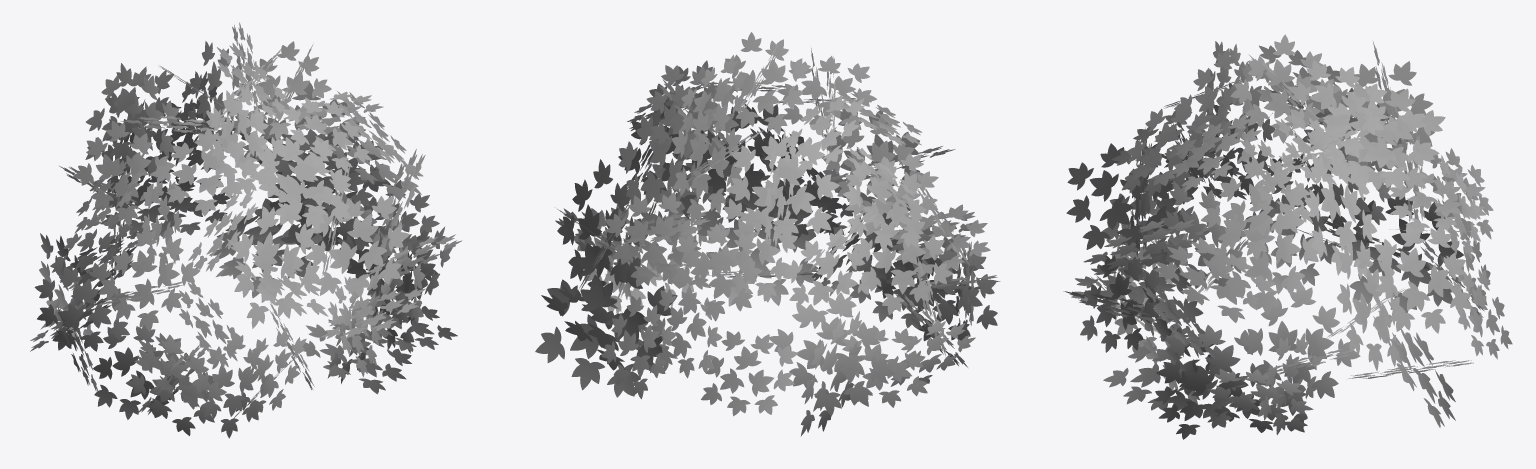
File: b_plant_guanmu_lod1_01.fbx
3 views of the same model, side by side, from view 1: azimuth 30°, elevation 25°; view 2: azimuth 150°, elevation 25°; view 3: azimuth 270°, elevation 25° (orthographic). The views are drawn at different scales.
Visible parts, largest first — view 1: b_plant_guanmu_lod1_01; view 2: b_plant_guanmu_lod1_01; view 3: b_plant_guanmu_lod1_01.
Part boxes in pixels (x1,y1,x2,y2): b_plant_guanmu_lod1_01: (30, 22, 462, 438); b_plant_guanmu_lod1_01: (535, 32, 1000, 436); b_plant_guanmu_lod1_01: (1063, 34, 1512, 439).
Size of the model in its own units: 4220 by 3504 by 4115.
